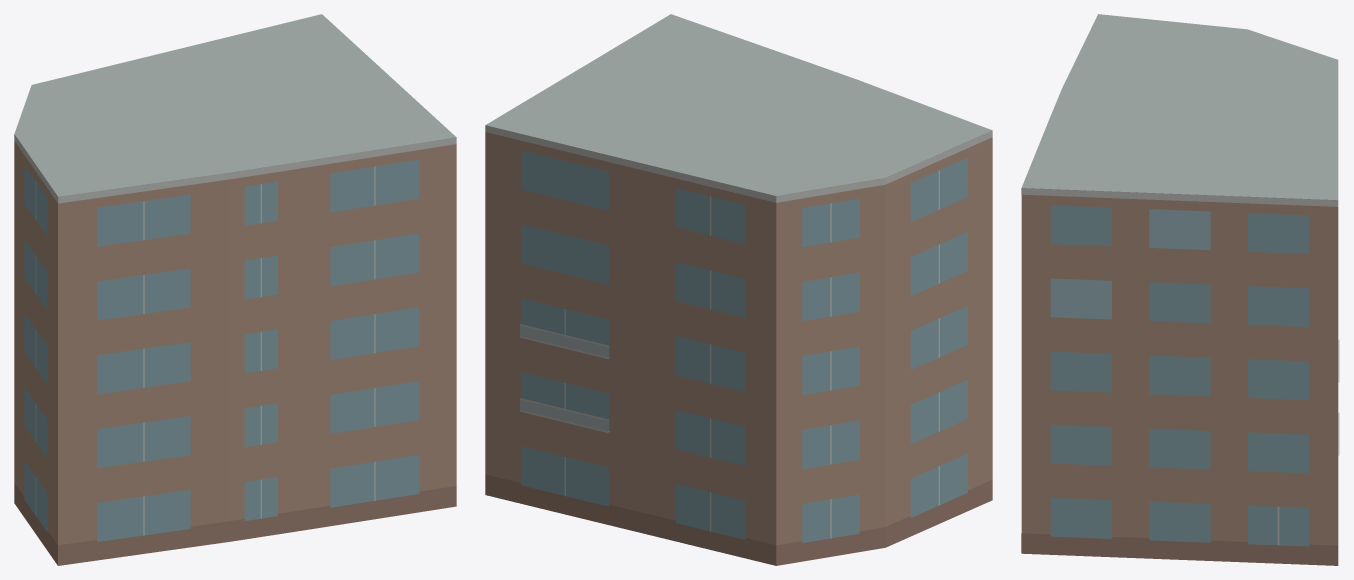
Rendered from survey-upis-32502171.glb.
3 views of the same model, side by side, from view 1: azimuth 30°, elevation 25°; view 2: azimuth 150°, elevation 25°; view 3: azimuth 270°, elevation 25° (orthographic).
Parts seen in each view (by area): view 1: survey-upis-32502171.tmp; view 2: survey-upis-32502171.tmp; view 3: survey-upis-32502171.tmp.
Part boxes in pixels (bbox=[...]): survey-upis-32502171.tmp: bbox=[14, 14, 456, 565]; survey-upis-32502171.tmp: bbox=[485, 14, 992, 565]; survey-upis-32502171.tmp: bbox=[1021, 14, 1339, 565].
Bounding box in the file's own units: 14.53 × 13.3 × 10.49.
